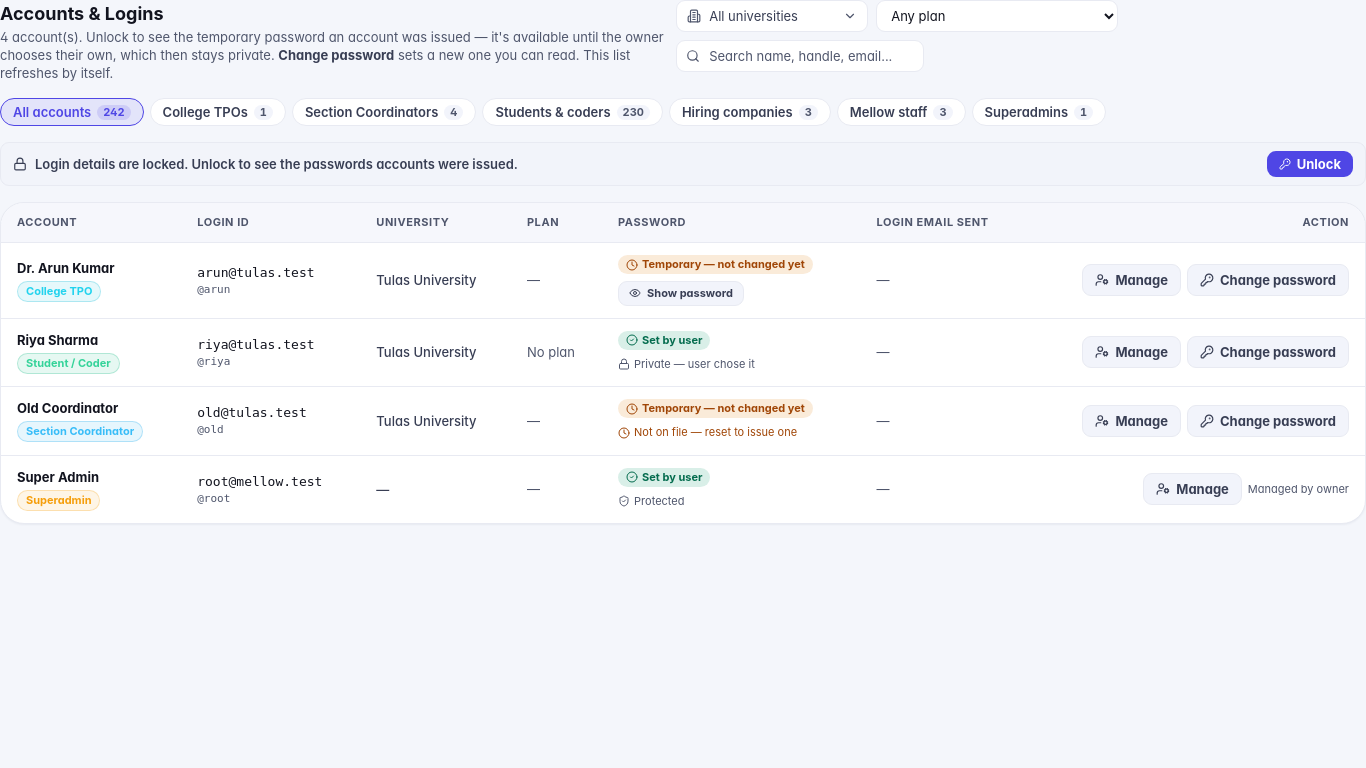
Test: issued logins › keeps it locked and says why when the password is wrong
expect the text "Dr. Arun Kumar" is shown: met, box [17,260,114,276]
Click the button with aria-label "show dr. arun kumar's password": point(681, 293) [618,280,744,306]
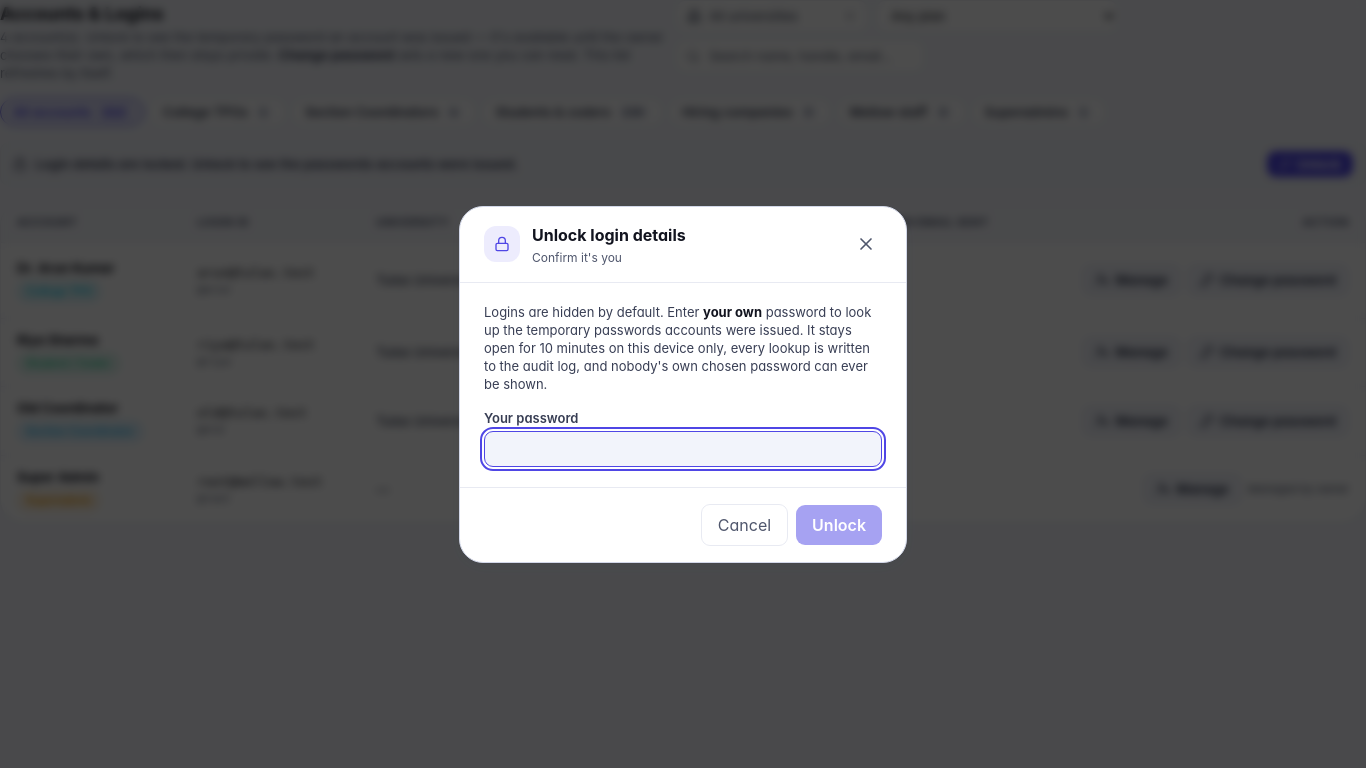
In the password field labelled "Your password": point(683, 448) [484,430,882,466], type "typo"
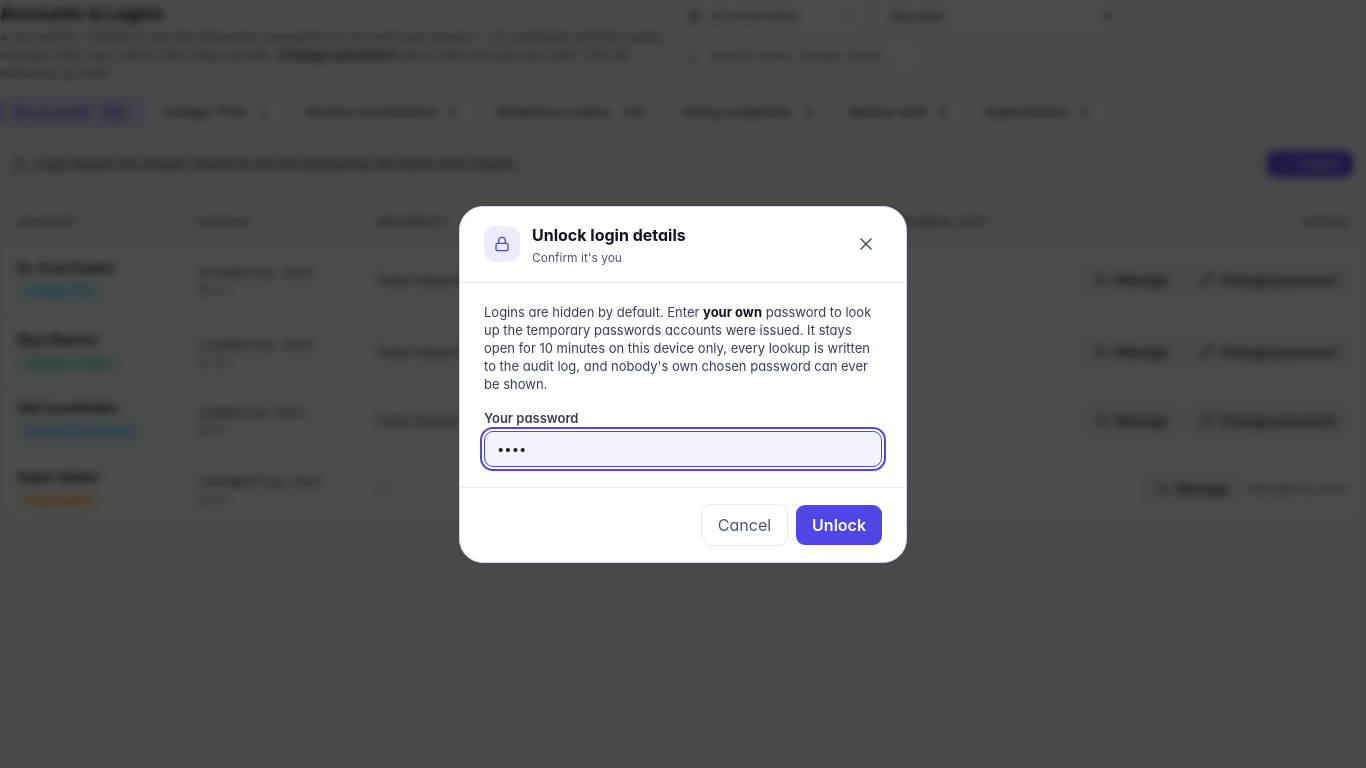
Click the button "Unlock": point(839, 524) [796,504,882,544]
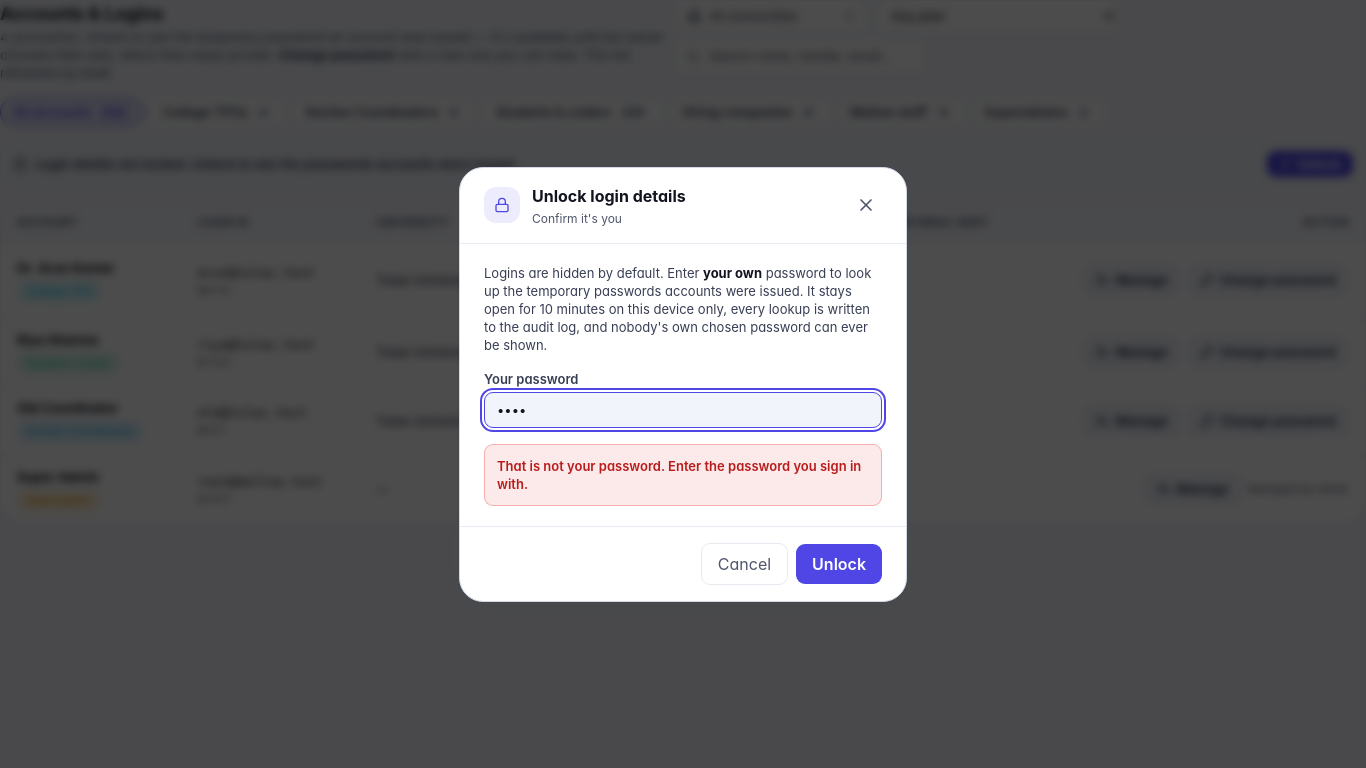
expect the message shows "not your password": met, box [497,458,861,492]
